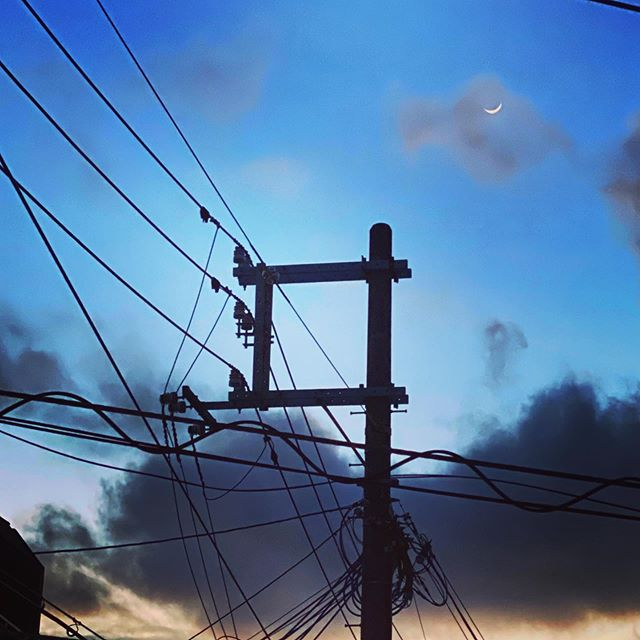moon: (476, 87, 510, 122)
power pole: (130, 170, 456, 640)
sky: (1, 1, 640, 640)
